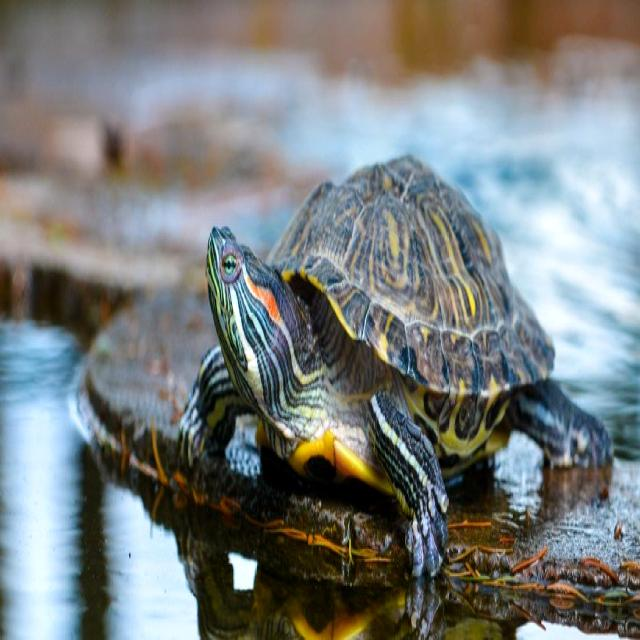Sea turtle: (178, 142, 620, 595)
